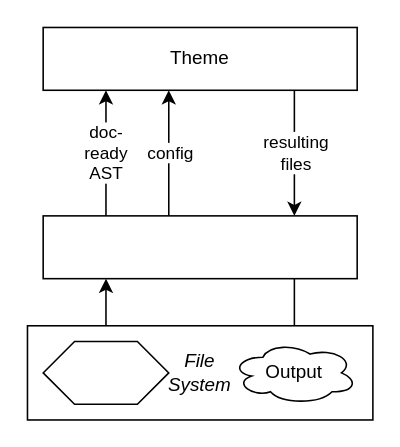
Some shapes in this 400 by 447 pixel diagram are drawn without their labels. Each missing label, with the box of its shape:
Core: (42, 214, 357, 279)
Sources: (42, 340, 169, 404)
